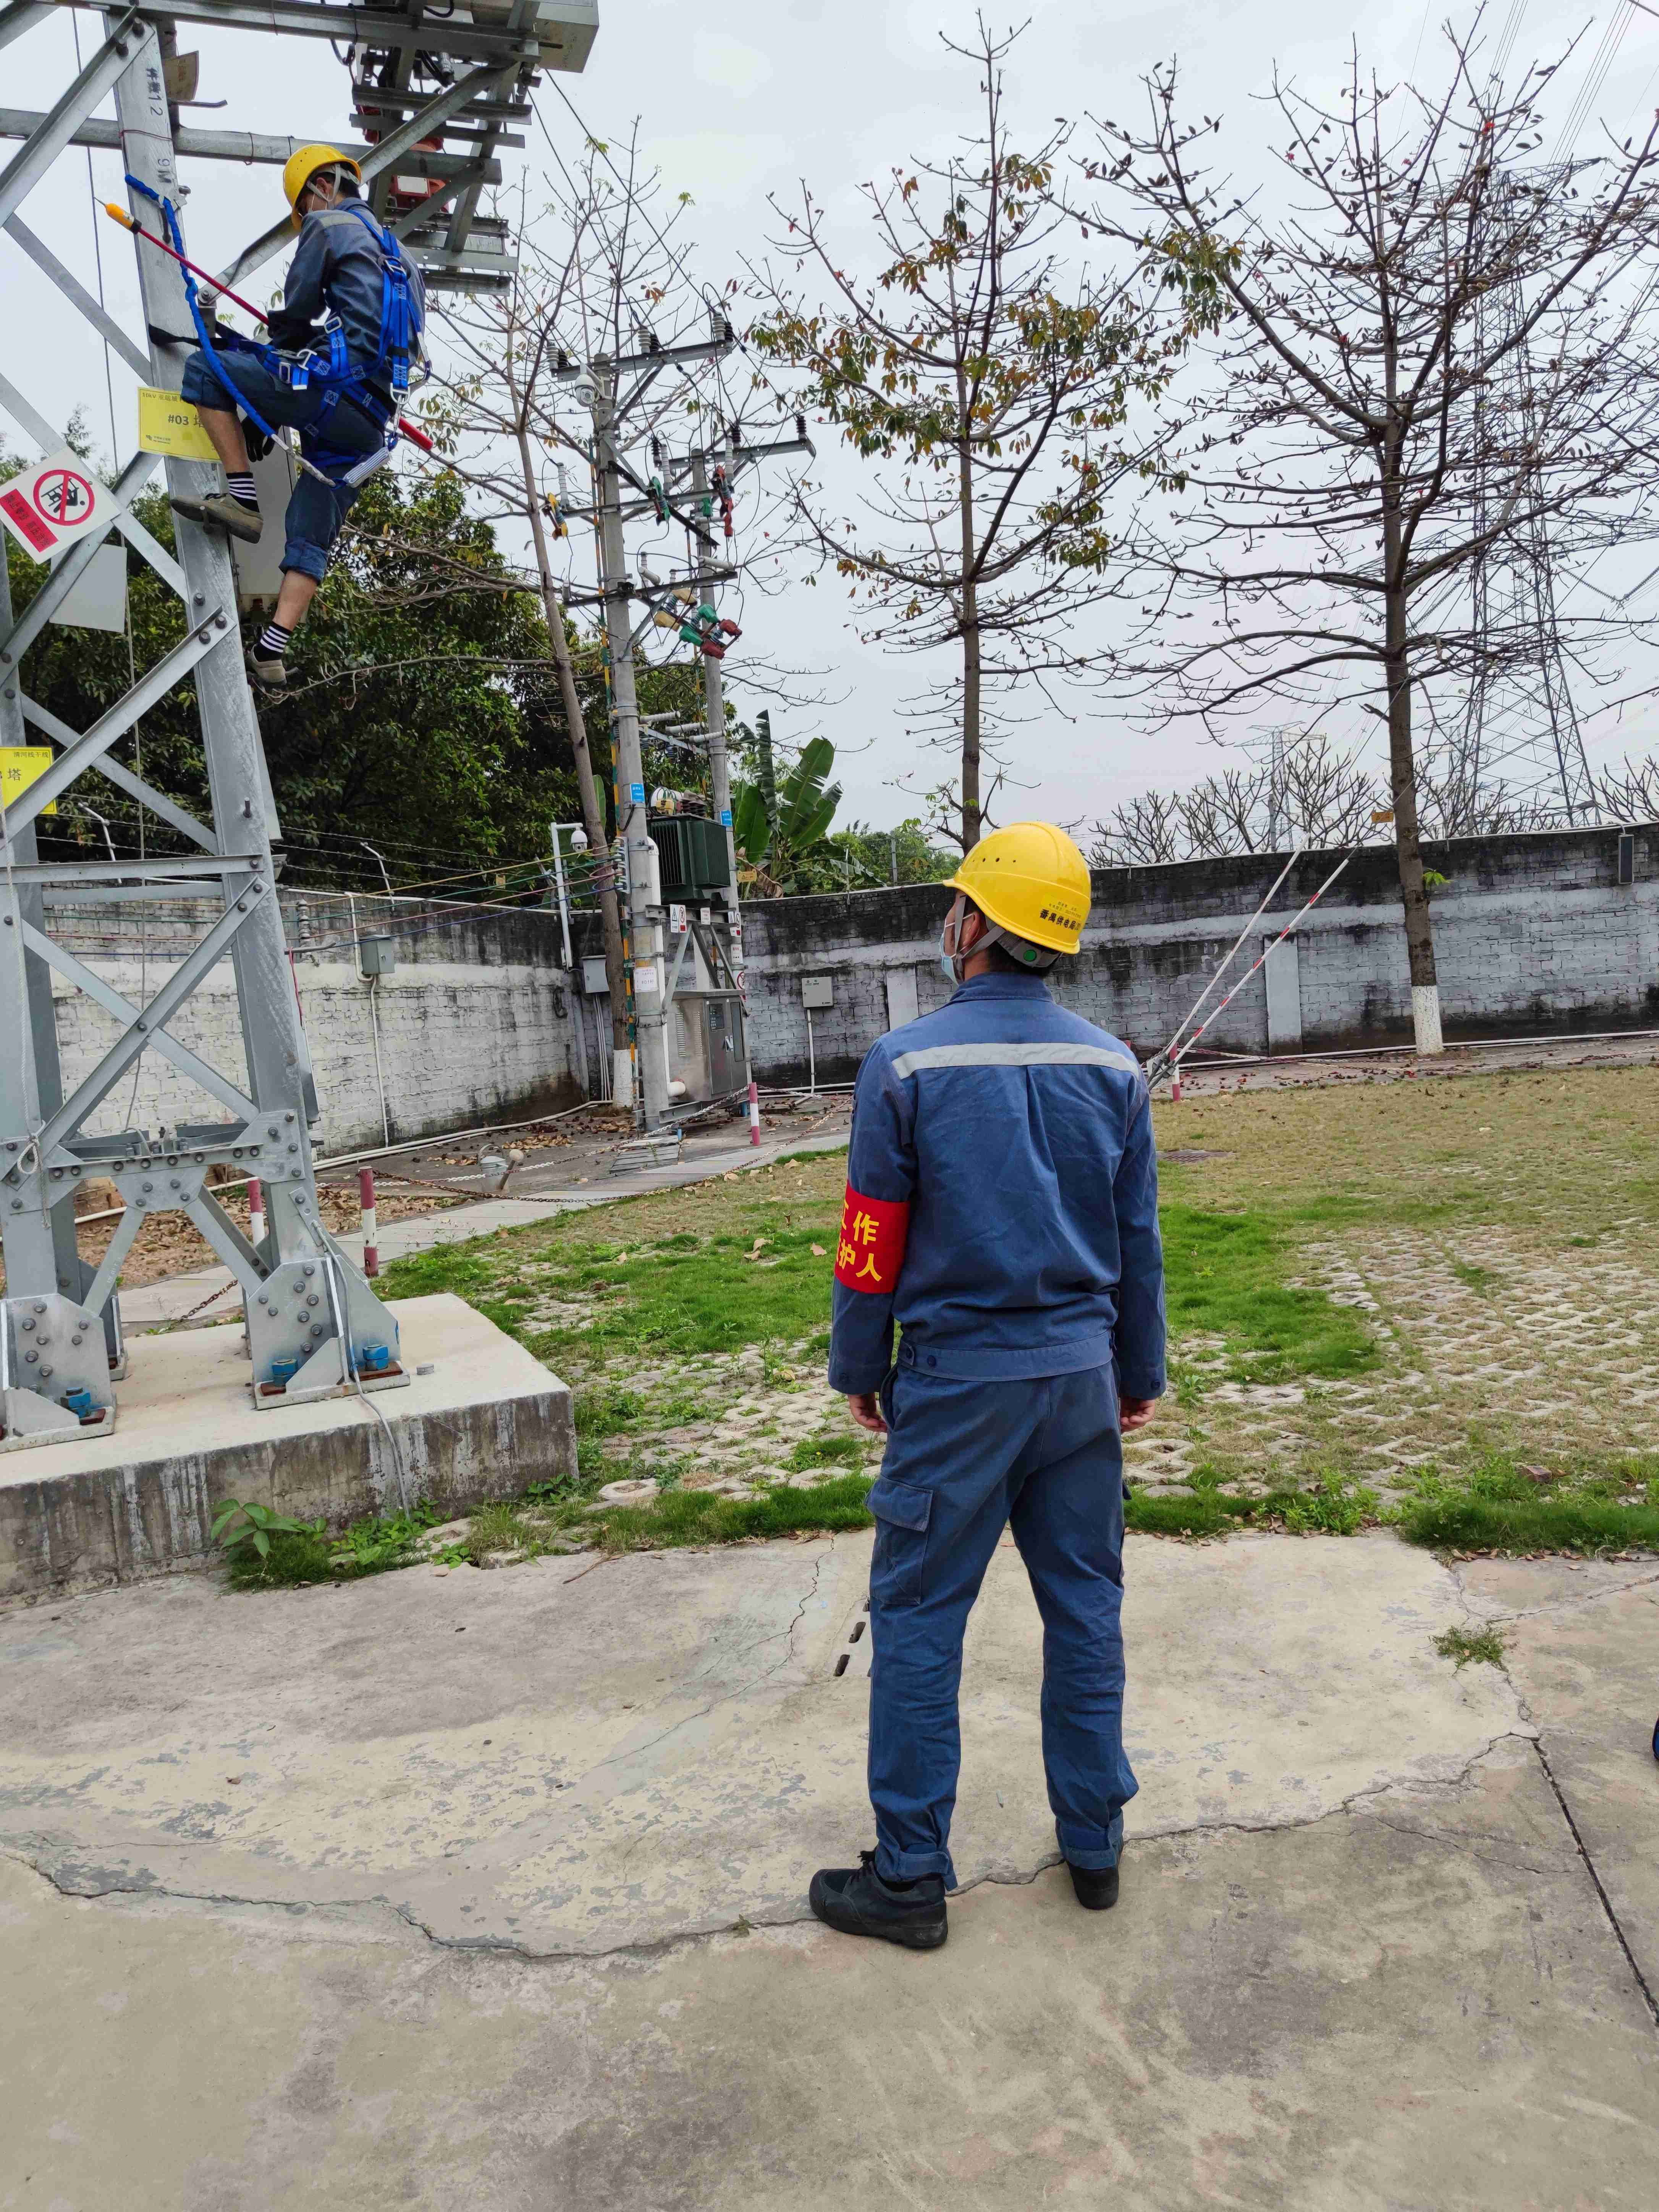downsuit: (854, 1413, 1136, 1888), (179, 348, 387, 582)
upsuit: (828, 970, 1168, 1402), (268, 200, 423, 397)
wrongbottom: (195, 404, 251, 475), (274, 573, 321, 632)
